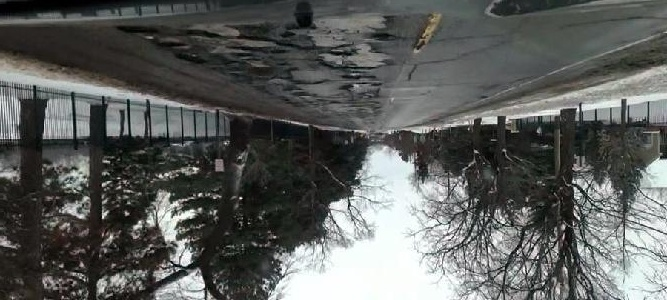pothole: (117, 22, 159, 38), (173, 49, 206, 66), (237, 46, 289, 55), (292, 13, 315, 28), (343, 72, 377, 82), (329, 46, 355, 57)
